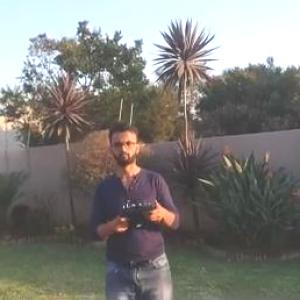follow: (86, 109, 187, 299)
